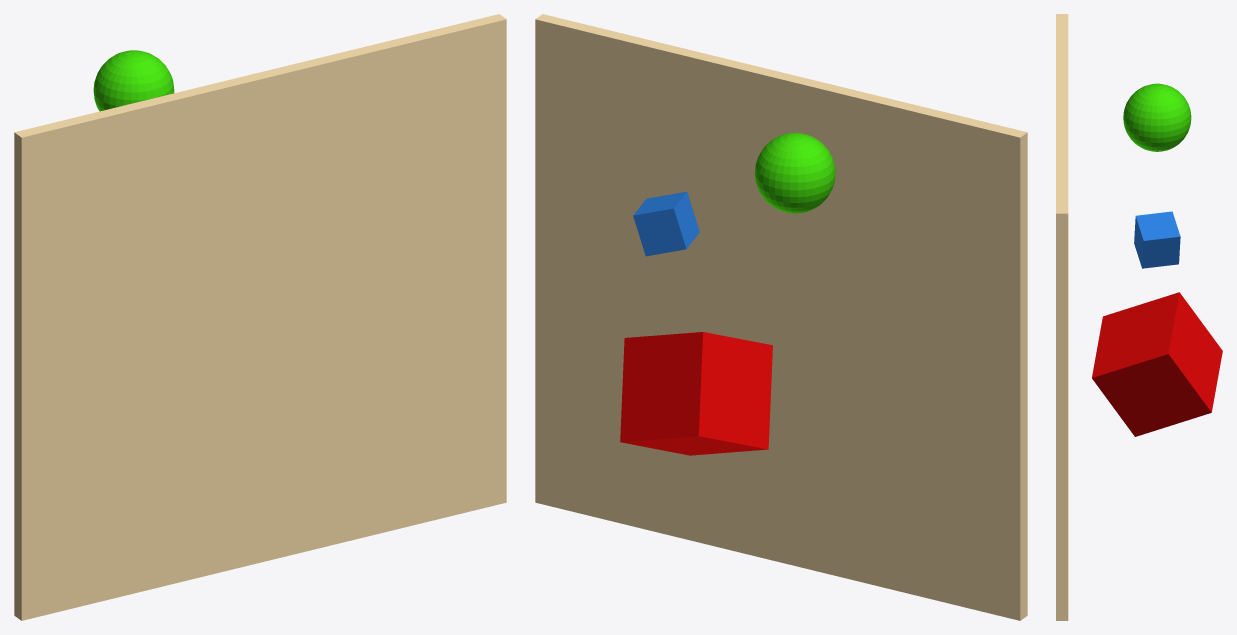
File: new_scene_floor_and_cube_spehere.dae
3 views of the same model, side by side, from view 1: azimuth 30°, elevation 25°; view 2: azimuth 150°, elevation 25°; view 3: azimuth 270°, elevation 25° (orthographic). The views are drawn at different scales.
Parts seen in each view (by area): view 1: Cube.003, Sphere.002; view 2: Cube.003, Cube, Sphere.002, Cube.001; view 3: Cube, Cube.003, Sphere.002, Cube.001.
Boxes of the visible parts, box(x1,y1,x2,y2) form: Cube.003: box(14, 14, 506, 620); Sphere.002: box(93, 50, 174, 111); Cube.003: box(535, 14, 1027, 620); Cube: box(620, 332, 772, 455); Sphere.002: box(755, 132, 835, 213); Cube.001: box(633, 191, 699, 256); Cube: box(1092, 292, 1222, 436); Cube.003: box(1056, 14, 1068, 620); Sphere.002: box(1123, 83, 1191, 151); Cube.001: box(1134, 211, 1180, 268).
Bounding box in the file's own units: 2.08 × 0.733 × 1.98.
